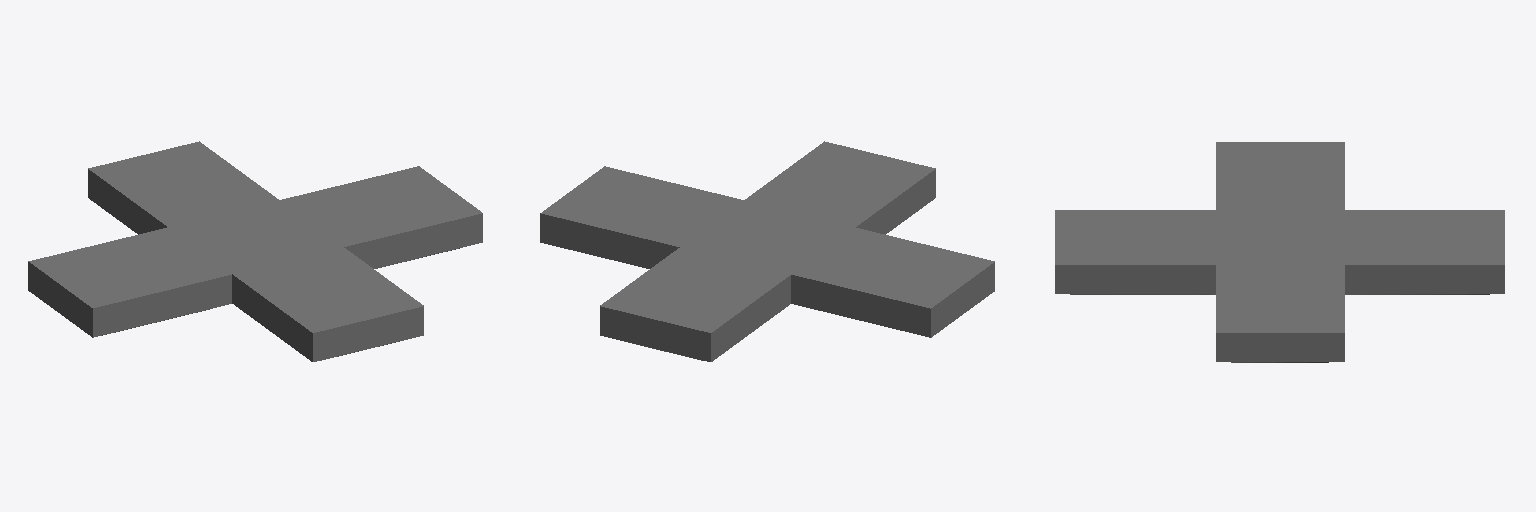
File: cross2.obj
3 views of the same model, side by side, from view 1: azimuth 30°, elevation 25°; view 2: azimuth 150°, elevation 25°; view 3: azimuth 270°, elevation 25° (orthographic).
Visible parts, largest first — view 1: cross3:pCube1; view 2: cross3:pCube1; view 3: cross3:pCube1.
Boxes of the visible parts, x1,y1,x2,y2 form: cross3:pCube1: [28, 141, 482, 361]; cross3:pCube1: [540, 141, 994, 361]; cross3:pCube1: [1055, 142, 1504, 362].
Bounding box in the file's own units: 7.88 × 0.7174 × 7.86.